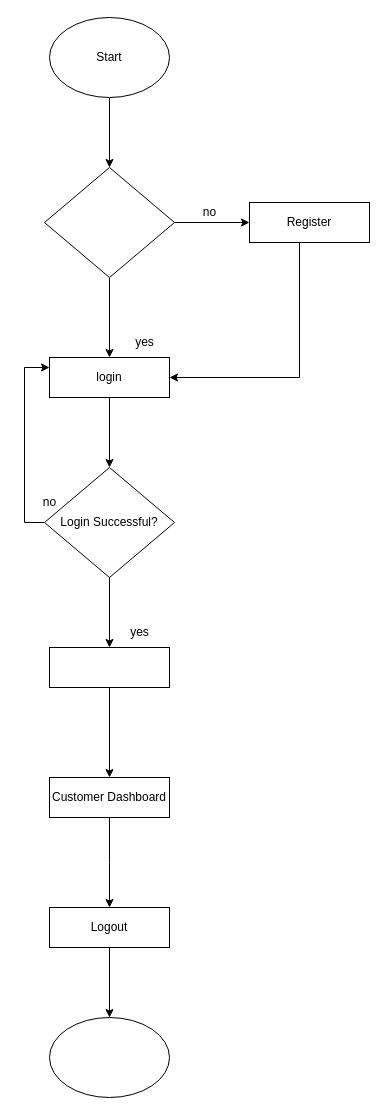
Some shapes in this 387 by 1115 pixel diagram are drawn without their labels. The centre of each missing label's shape, as x and y in pixels:
Dashboard: the point at 109,667
Is User Registered? (yes/no): the point at 109,222
Stop: the point at 109,1057
